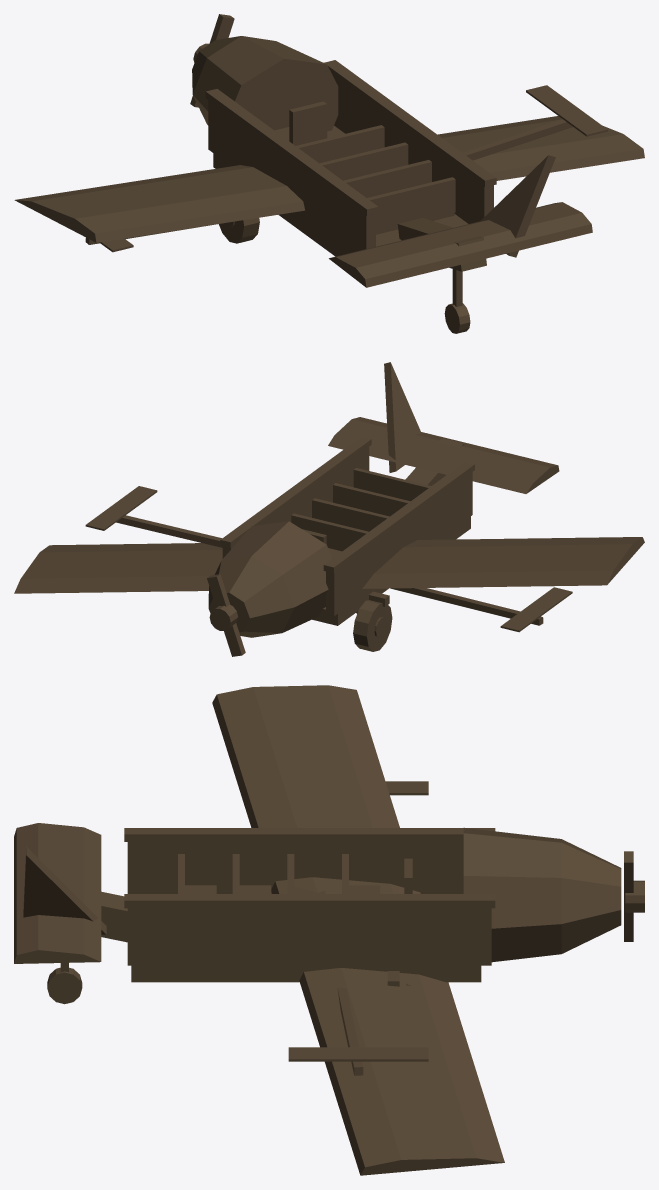
File: wreck.glb
3 renders of one model, top to bottom at view 1: azimuth 30°, elevation 25°; view 2: azimuth 150°, elevation 25°; view 3: azimuth 270°, elevation 25°, orthographic. The views are drawn at different scales.
Parts seen in each view (by area): view 1: Wreck-MainWing, Wreck-EngineCowling, Wreck-Tailplane, Wreck-CabinRail-1, Wreck-CabinRail1, Wreck-CabinTrim-1, Wreck-CabinTrim1, Wreck-BenchBack3, Wreck-TailFin, Wreck-BenchBack1, Wreck-BenchBack0, Wreck-BenchBack2 (+8 smaller); view 2: Wreck-MainWing, Wreck-EngineCowling, Wreck-Tailplane, Wreck-CabinRail-1, Wreck-CabinTrim-1, Wreck-CabinTrim1, Wreck-TailFin, Wreck-CabinRail1, Wreck-Wheel-1, Wreck-BenchBack3, Wreck-BenchBack1, Wreck-BenchBack2 (+9 smaller); view 3: Wreck-MainWing, Wreck-CabinRail1, Wreck-EngineCowling, Wreck-CabinRail-1, Wreck-Tailplane, Wreck-CabinTrim1, Wreck-CabinTrim-1, Wreck-CabinFloor, Wreck-TailFin, Wreck-WingBand1, Wreck-TailBoom, Wreck-TailWheel (+2 smaller).
Boxes of the visible parts, x1,y1,x2,y2 form: Wreck-MainWing: (14,116,644,242); Wreck-EngineCowling: (192,36,338,131); Wreck-Tailplane: (329,202,592,287); Wreck-CabinRail-1: (208,100,375,252); Wreck-CabinRail1: (333,76,493,223); Wreck-CabinTrim-1: (205,89,378,215); Wreck-CabinTrim1: (324,60,496,187); Wreck-BenchBack3: (367,177,455,231); Wreck-TailFin: (480,155,555,257); Wreck-BenchBack1: (319,142,408,180); Wreck-BenchBack0: (296,125,384,163); Wreck-BenchBack2: (343,160,431,197); Wreck-MainWing: (14,537,644,593); Wreck-EngineCowling: (208,521,332,637); Wreck-Tailplane: (328,417,559,493); Wreck-CabinRail-1: (326,472,472,615); Wreck-CabinTrim-1: (323,462,474,573); Wreck-CabinTrim1: (220,436,371,547); Wreck-TailFin: (384,362,421,472); Wreck-CabinRail1: (222,447,369,558); Wreck-Wheel-1: (353,600,392,651); Wreck-BenchBack3: (353,468,431,501); Wreck-BenchBack1: (312,498,389,531); Wreck-BenchBack2: (333,483,410,516); Wreck-MainWing: (212,685,504,1175); Wreck-CabinRail1: (127,908,491,965); Wreck-EngineCowling: (463,827,621,962); Wreck-CabinRail-1: (127,842,463,893); Wreck-Tailplane: (14,823,101,963); Wreck-CabinTrim1: (124,894,495,908); Wreck-CabinTrim-1: (124,828,495,841); Wreck-CabinFloor: (131,965,481,982); Wreck-TailFin: (23,847,106,934); Wreck-WingBand1: (288,1047,428,1061); Wreck-TailBoom: (101,891,127,942); Wreck-TailWheel: (47,967,82,1004).
Size of the model in its own units: 12.02 by 3.1 by 9.02.
